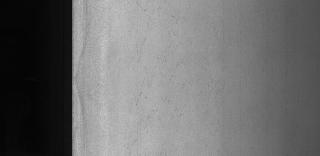silk spot: (130, 0, 216, 132)
